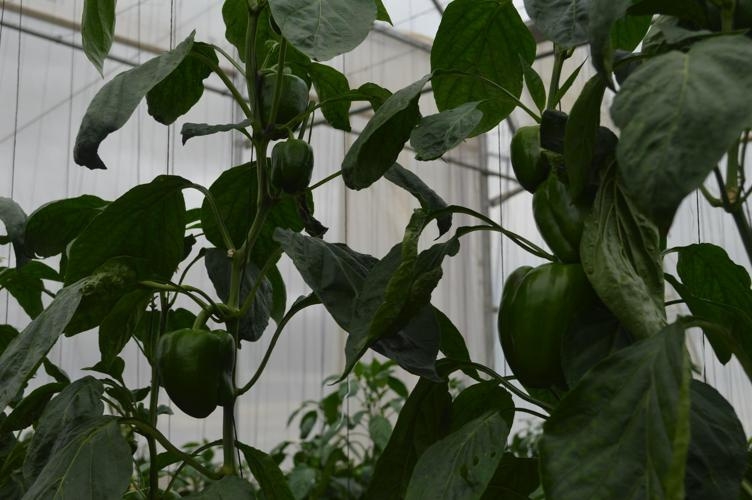BellPepper: (497, 258, 624, 396), (151, 316, 242, 426), (518, 176, 619, 270), (262, 133, 325, 207), (251, 66, 314, 138), (500, 116, 559, 189)
